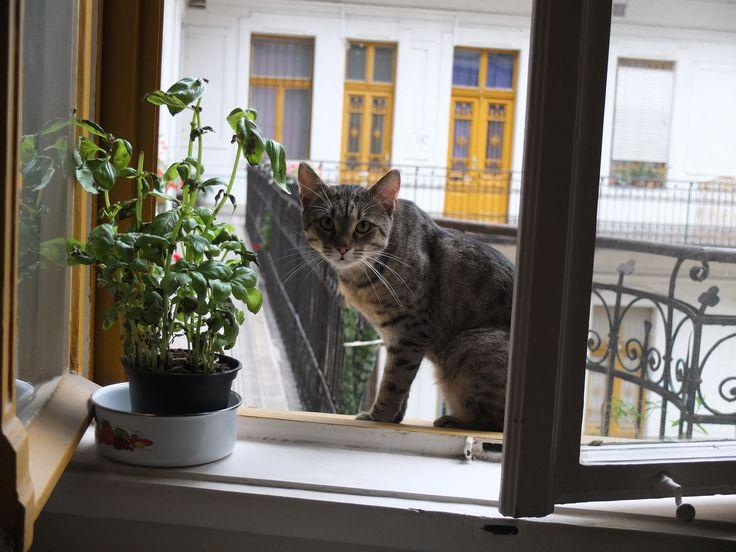kedo: (300, 166, 508, 423)
